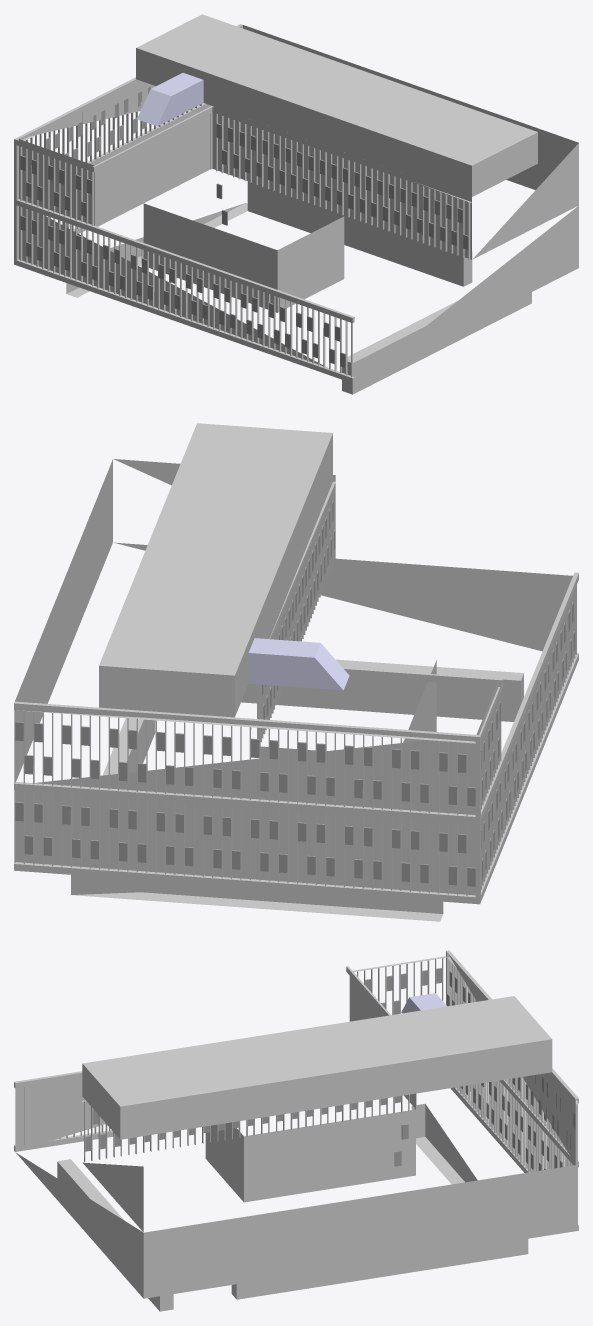
3 renders of one model, top to bottom at view 1: azimuth 30°, elevation 25°; view 2: azimuth 150°, elevation 25°; view 3: azimuth 270°, elevation 25°, orthographic. The views are drawn at different scales.
Bounding box in the file's own units: 70.11 × 30 × 77.42.
